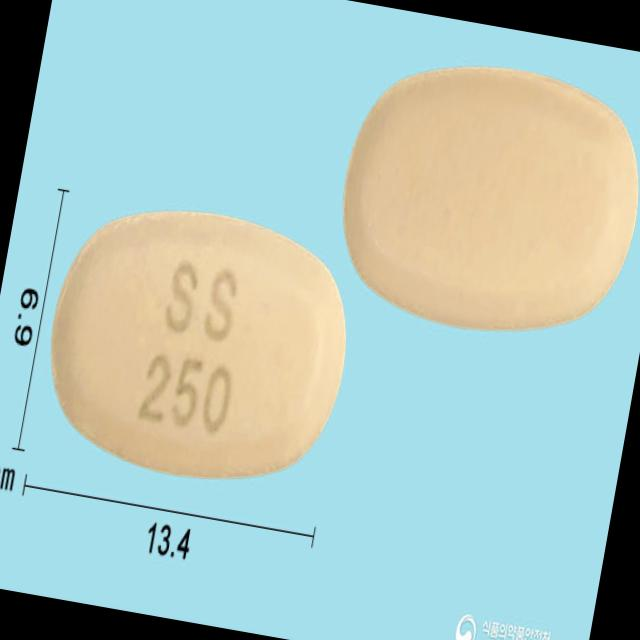Clarid: (31, 188, 368, 502), (322, 42, 640, 354)
